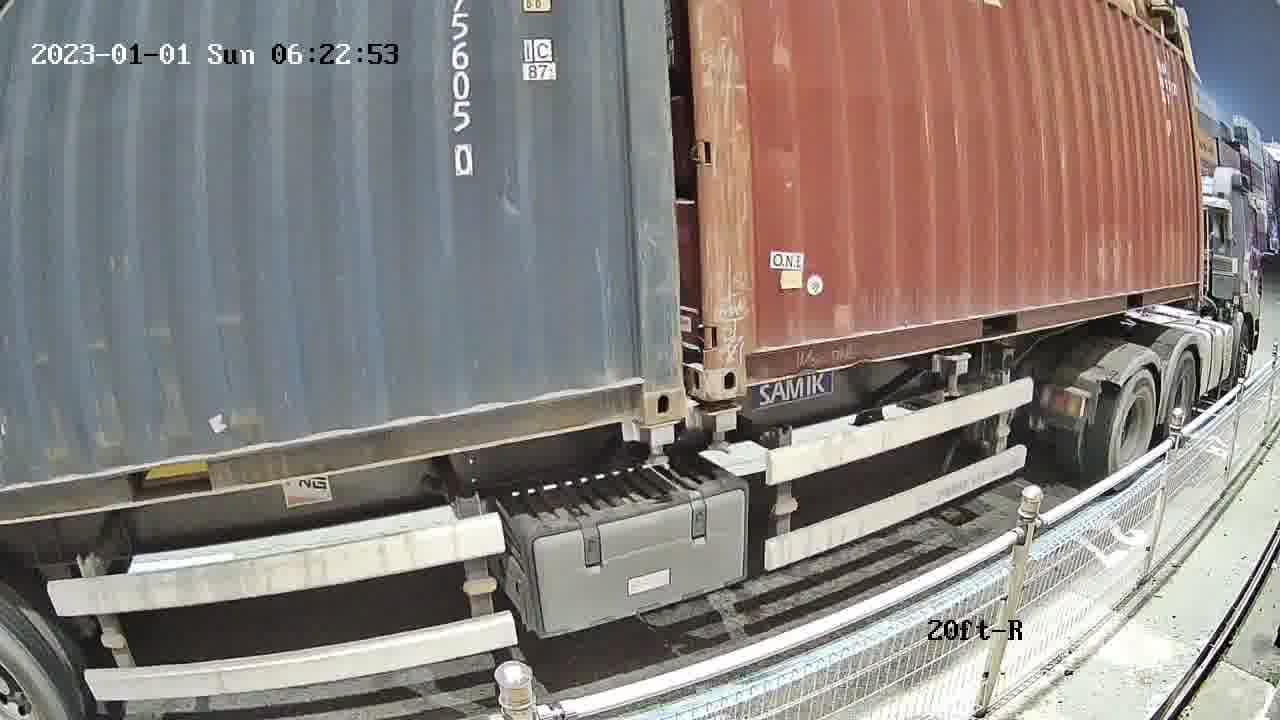Cone: (637, 421, 678, 471), (699, 407, 740, 457)
Hole_L: (709, 317, 775, 398)
Hole_R: (593, 345, 683, 426)
Tire: (1110, 371, 1157, 485), (1166, 354, 1197, 433)
